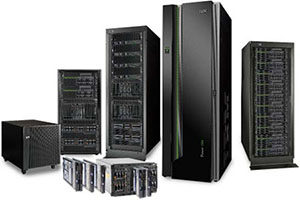ibm-server: (159, 1, 234, 184), (239, 38, 300, 171), (103, 23, 160, 159), (52, 68, 103, 157), (1, 118, 65, 172)
